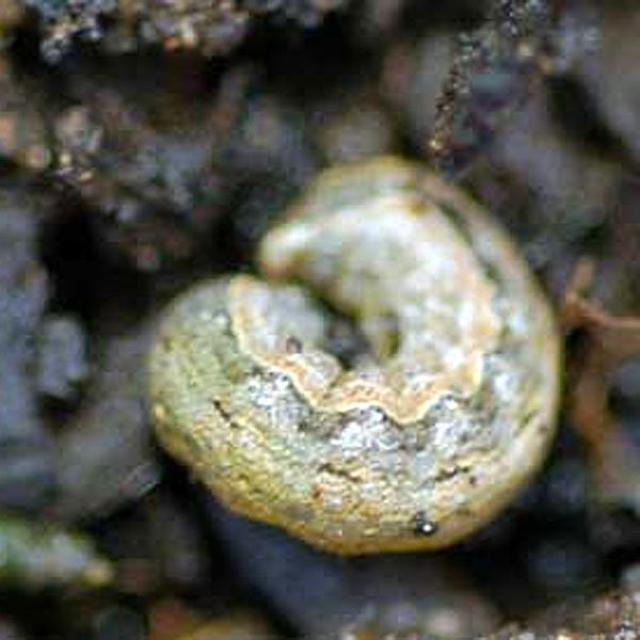worm: (144, 153, 566, 558)
